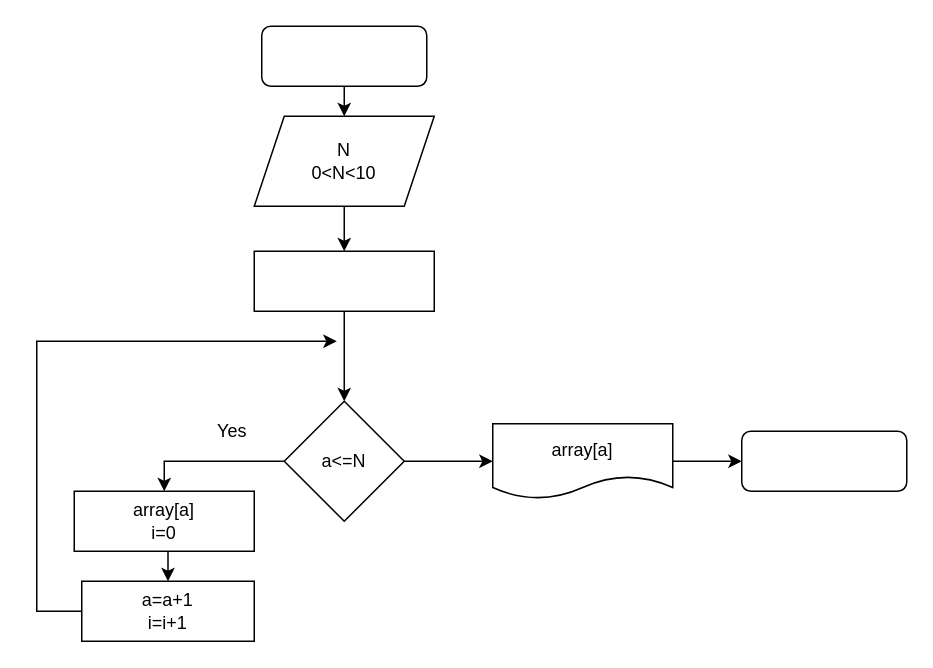
The diagram is 933 pixels wide and 668 high, and some of its shapes have lost their labels. Each missing label, with the centre of its shape:
a=-N: the point at 343,280
End: the point at 823,460
Start: the point at 343,55
